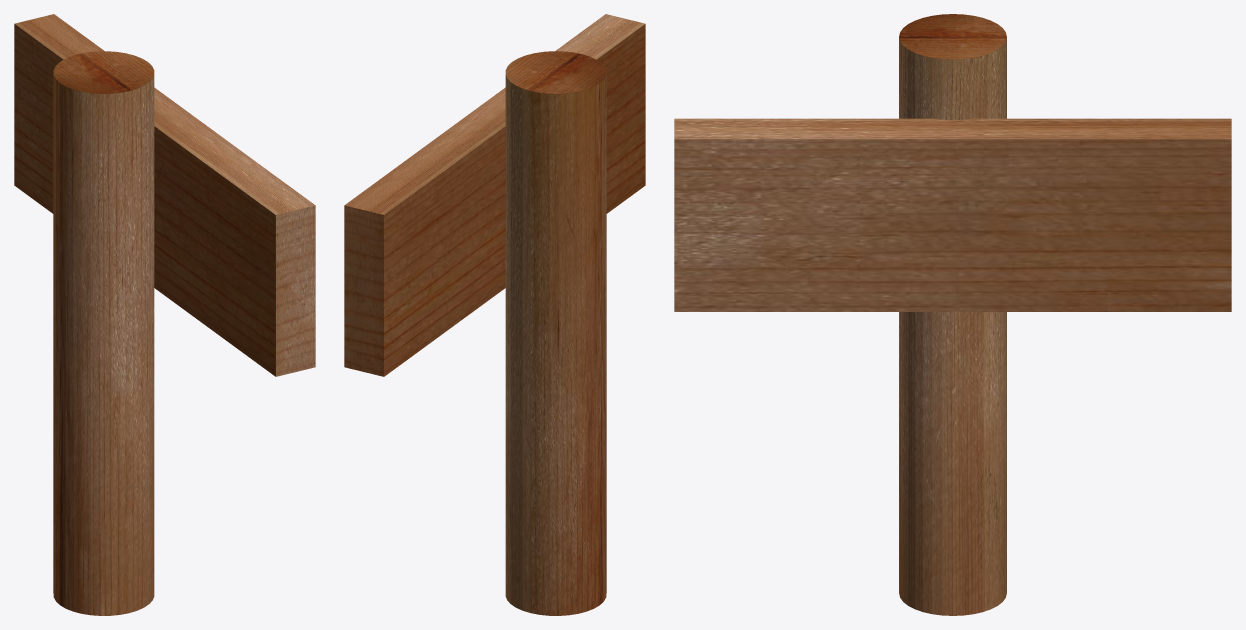
The model's file is OnePanneau.fbx.
3 renders of one model, left to right at view 1: azimuth 30°, elevation 25°; view 2: azimuth 150°, elevation 25°; view 3: azimuth 270°, elevation 25°, orthographic. The views are drawn at different scales.
Visible parts, largest first — view 1: Cylinder.001, Sign4Exit.001; view 2: Cylinder.001, Sign4Exit.001; view 3: Sign4Exit.001, Cylinder.001.
Boxes of the visible parts, bbox=[...] form: Cylinder.001: bbox=[53, 51, 154, 615]; Sign4Exit.001: bbox=[14, 14, 315, 376]; Cylinder.001: bbox=[505, 51, 606, 615]; Sign4Exit.001: bbox=[344, 14, 645, 376]; Sign4Exit.001: bbox=[674, 118, 1231, 311]; Cylinder.001: bbox=[899, 14, 1006, 615].
Size of the model in its own units: 22.58 by 90.32 by 82.
